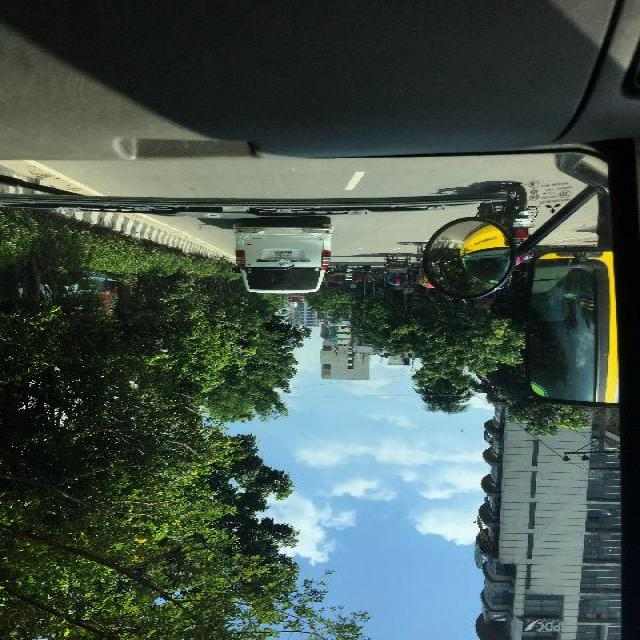white: (233, 223, 330, 293)
